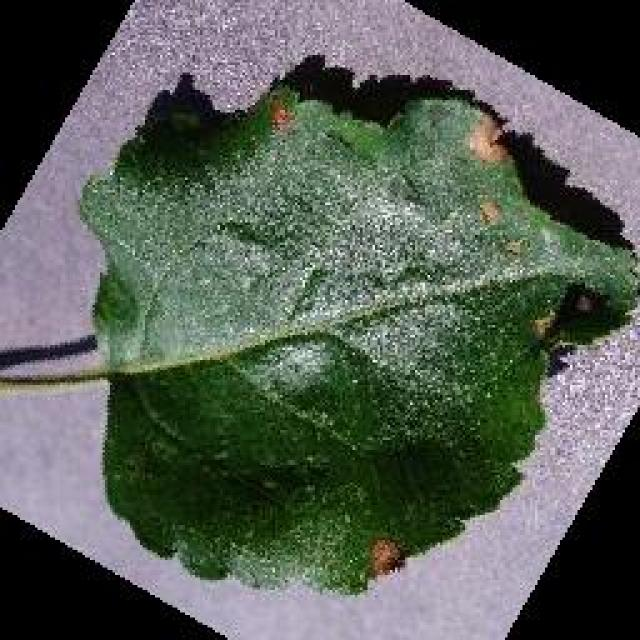Black_rot: (78, 65, 638, 595)
